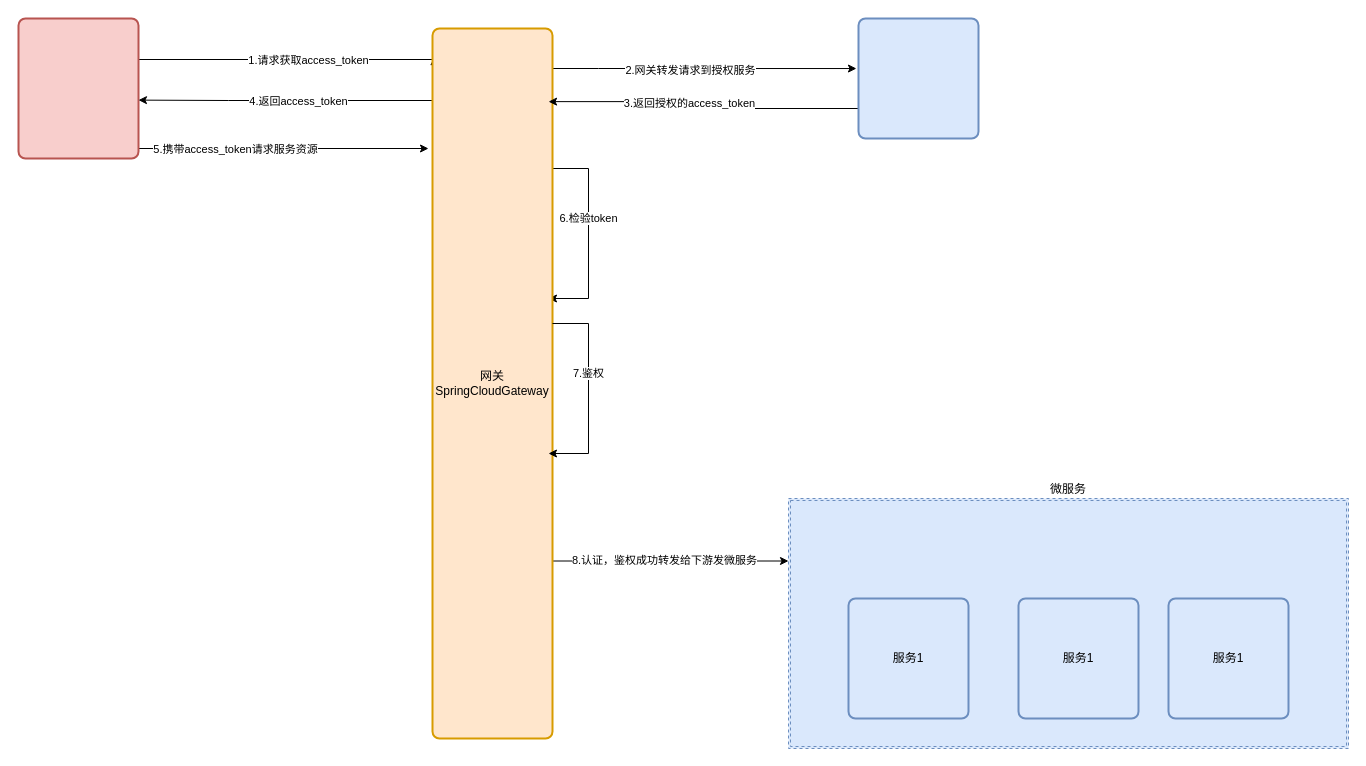
Image size: 1366x766. Some labels were removed from this diagram. The shapes that lost their labels are listed below. From the top down, each one's centre as x and y in pixels, then its label:
pixel 78 88: 客户端
pixel 918 78: Oauth2授权服务
